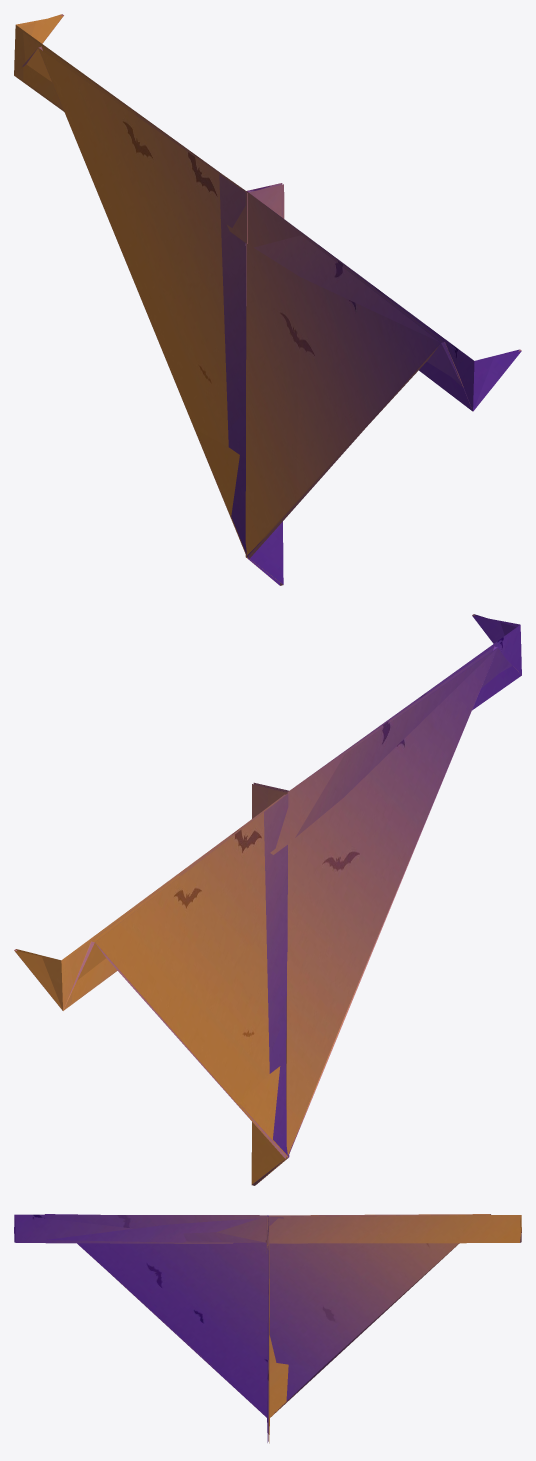
3 renders of one model, top to bottom at view 1: azimuth 30°, elevation 25°; view 2: azimuth 150°, elevation 25°; view 3: azimuth 270°, elevation 25°, orthographic. The views are drawn at different scales.
Visible parts, largest first — view 1: Origami_Model_79.001; view 2: Origami_Model_79.001; view 3: Origami_Model_79.001.
Part boxes in pixels (box(x1,y1,x2,y2)): Origami_Model_79.001: box(14, 14, 521, 585); Origami_Model_79.001: box(14, 614, 521, 1185); Origami_Model_79.001: box(14, 1214, 521, 1443).
Bounding box in the file's own units: 0.0156 × 0.1139 × 0.2361.
Materials: 1 (1 with a texture image).
